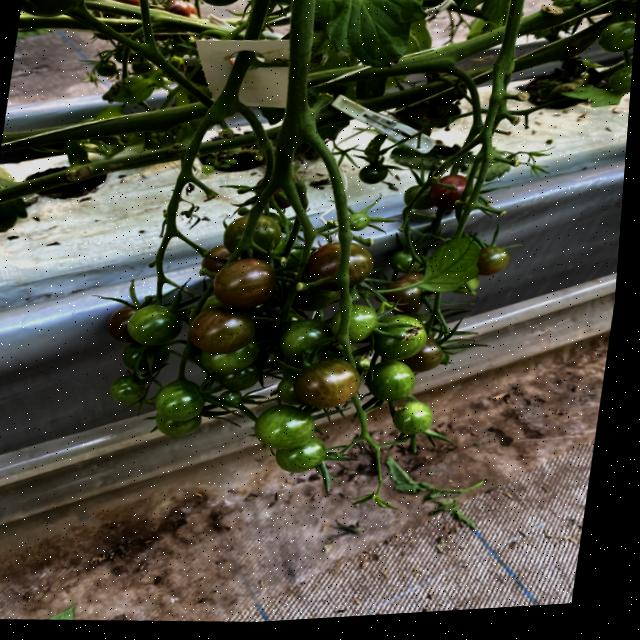ripe0: (250, 405, 317, 450), (123, 306, 185, 346), (150, 379, 207, 422), (364, 358, 419, 401), (390, 400, 436, 438)
ripe1: (301, 240, 377, 291), (291, 359, 364, 410), (210, 258, 280, 310), (187, 307, 258, 354), (380, 279, 426, 314), (427, 175, 473, 209), (104, 304, 133, 343)
